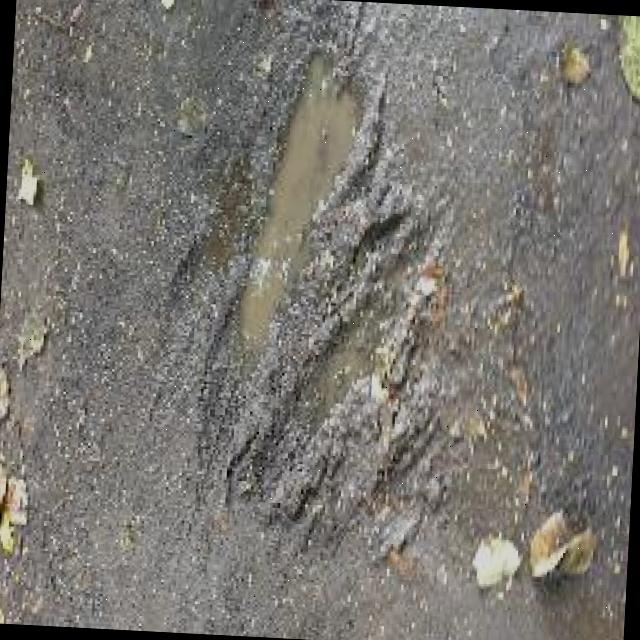stagnation: (201, 28, 393, 362)
